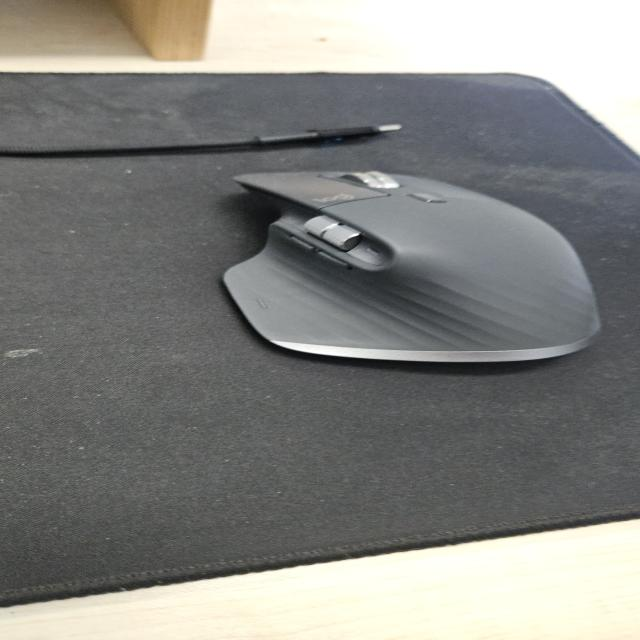Mouse: (220, 168, 604, 364)
